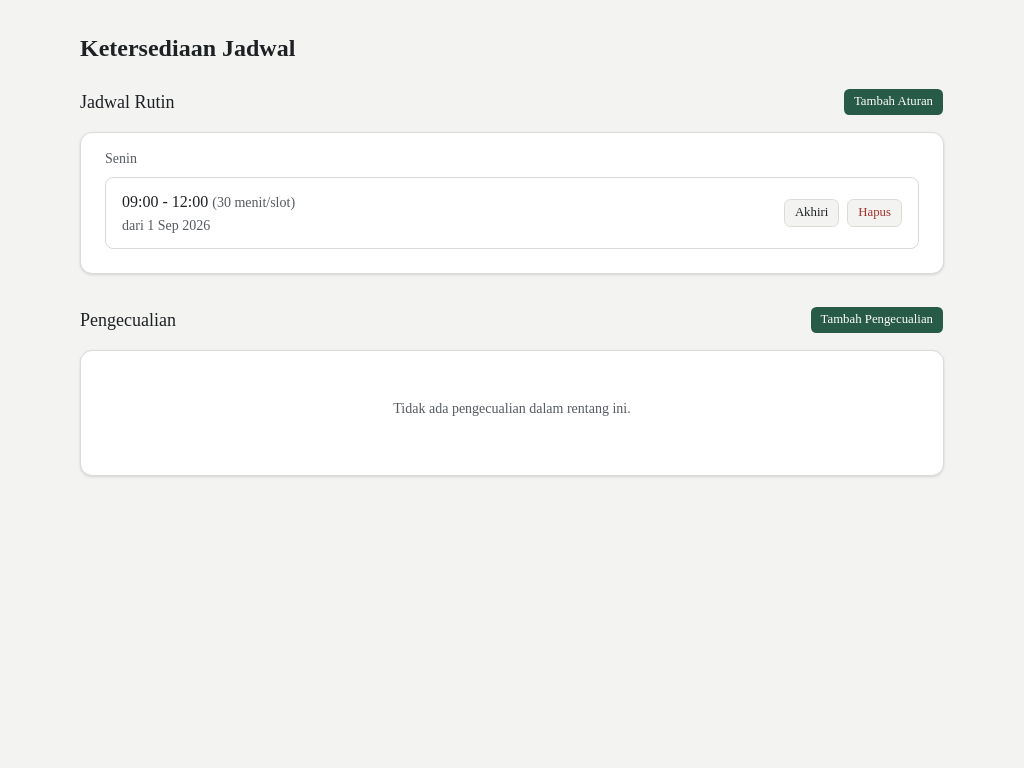
Test: /ketersediaan page › summary panel appears with bookings_cancelled > 0 after ending rule
Click the button "Akhiri".
click(812, 213)  # box x1=784 y1=199 x2=839 y2=227
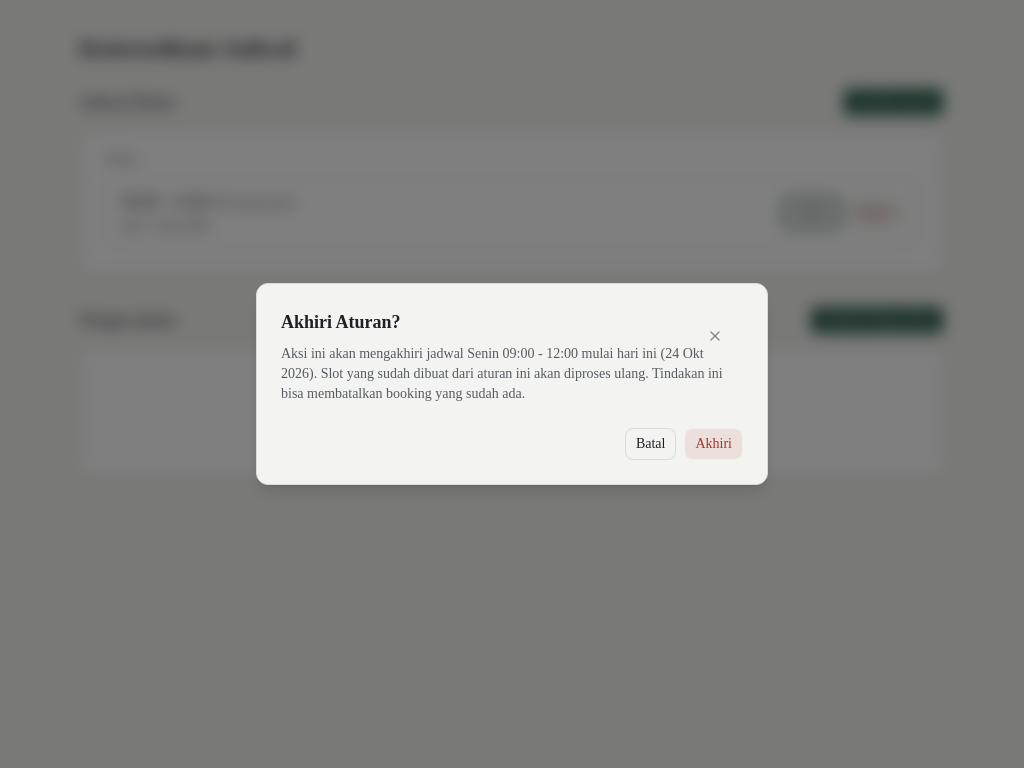
Click the button "Akhiri".
click(714, 444)  # box x1=684 y1=428 x2=743 y2=460
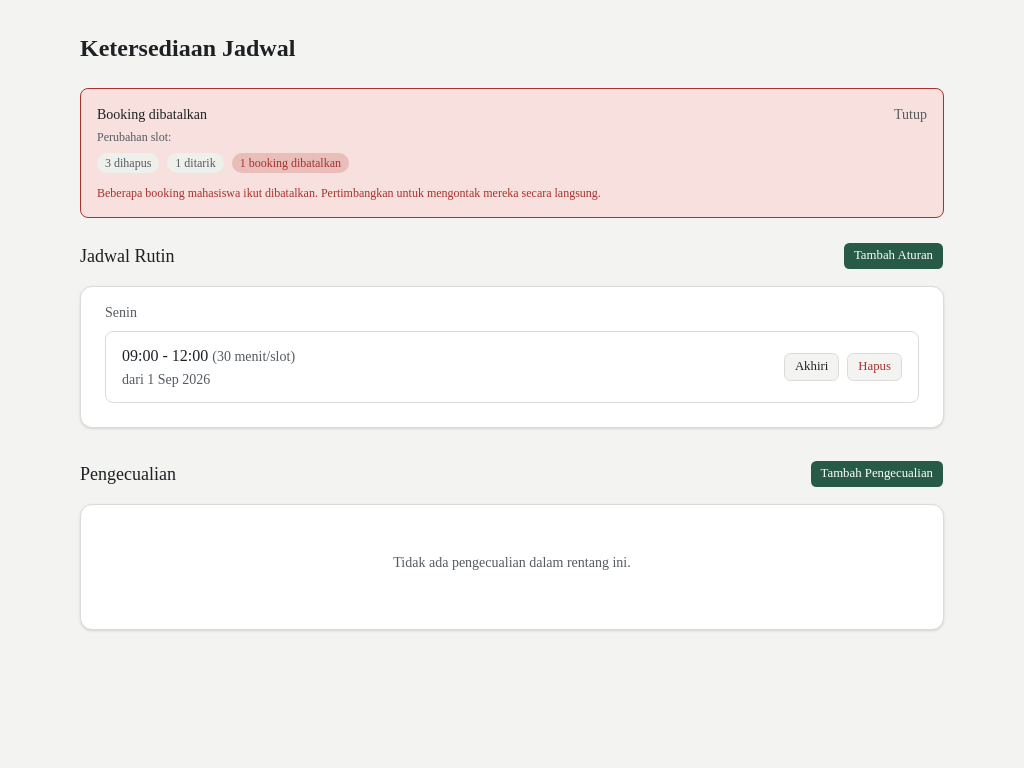
expect the text "Booking dibatalkan" is shown: met, box x1=97 y1=107 x2=207 y2=122
